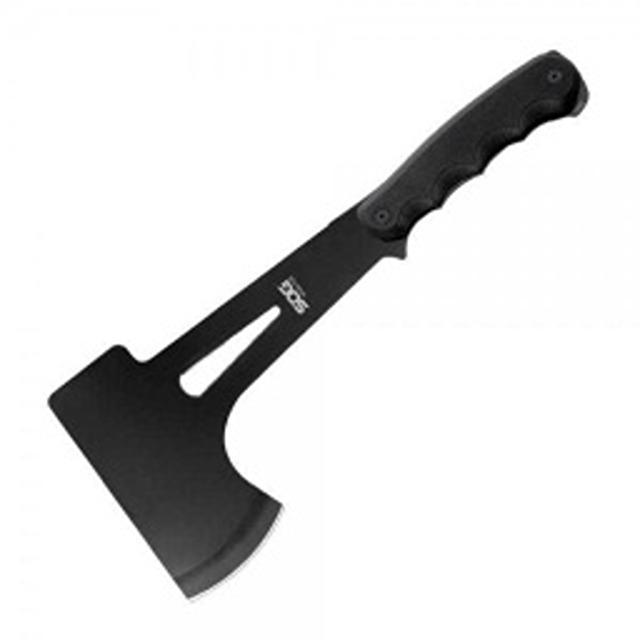ax: (40, 39, 606, 615)
